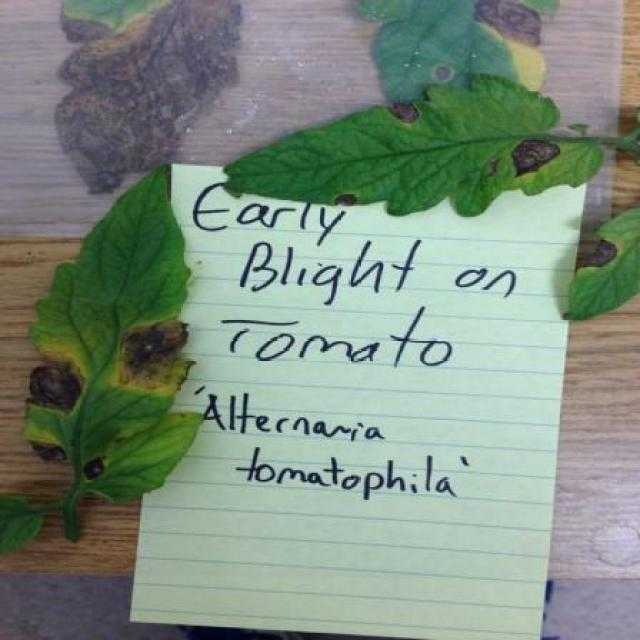Early Blight: (24, 165, 202, 501), (223, 73, 603, 217), (564, 207, 640, 320)
